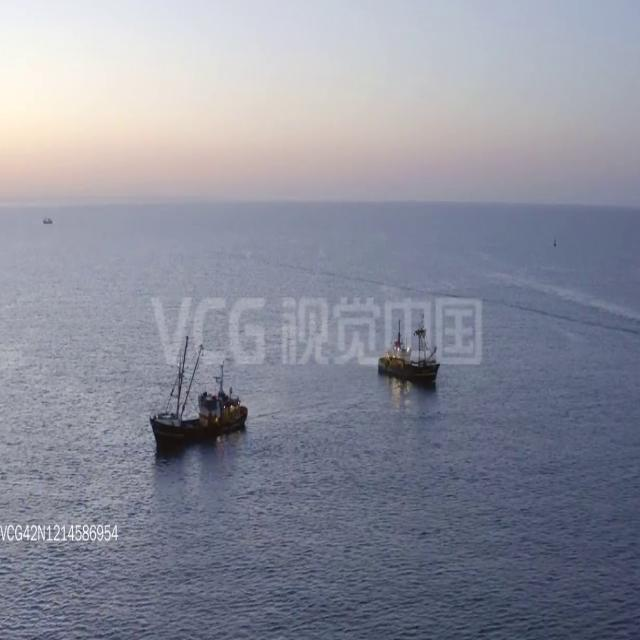fishing boat: (147, 336, 250, 460), (378, 312, 441, 388)
